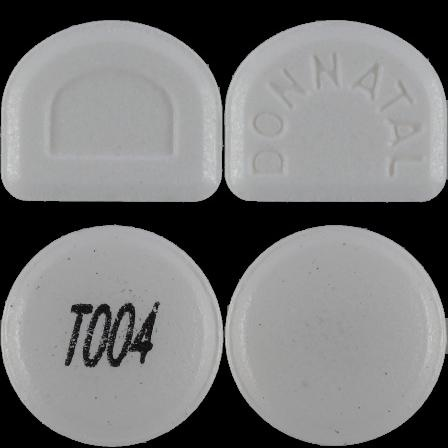42291-245: (0, 0, 224, 224)
